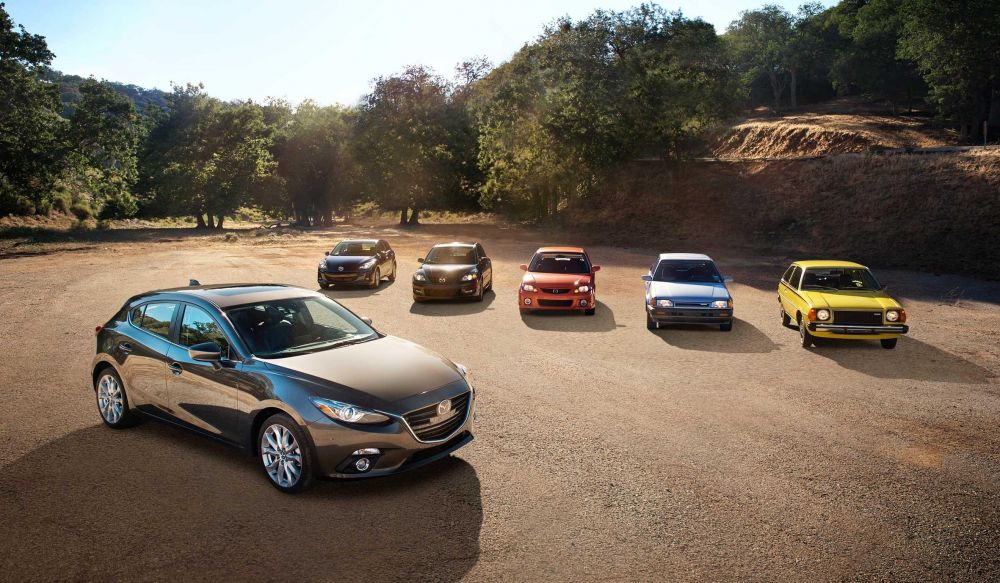Mazda3 Hatchback: (91, 279, 478, 496)
